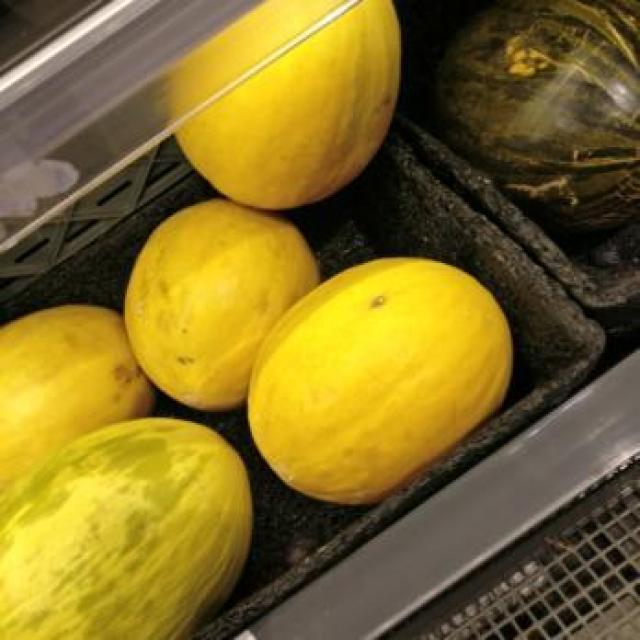Honeydew: (248, 259, 513, 506), (0, 418, 256, 638), (173, 0, 401, 210), (127, 197, 318, 410), (0, 303, 156, 489)
